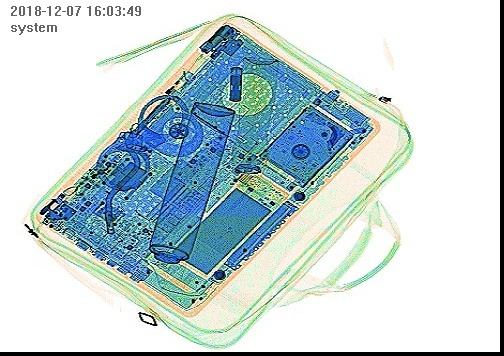handcuffs: (92, 92, 191, 192)
lighter: (150, 68, 196, 127)
pressure: (137, 100, 236, 288), (231, 55, 279, 176)
